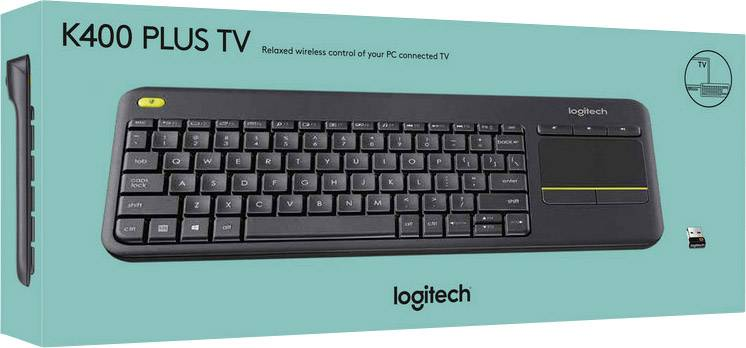logitech-keyboard-k400: (105, 92, 661, 263)
